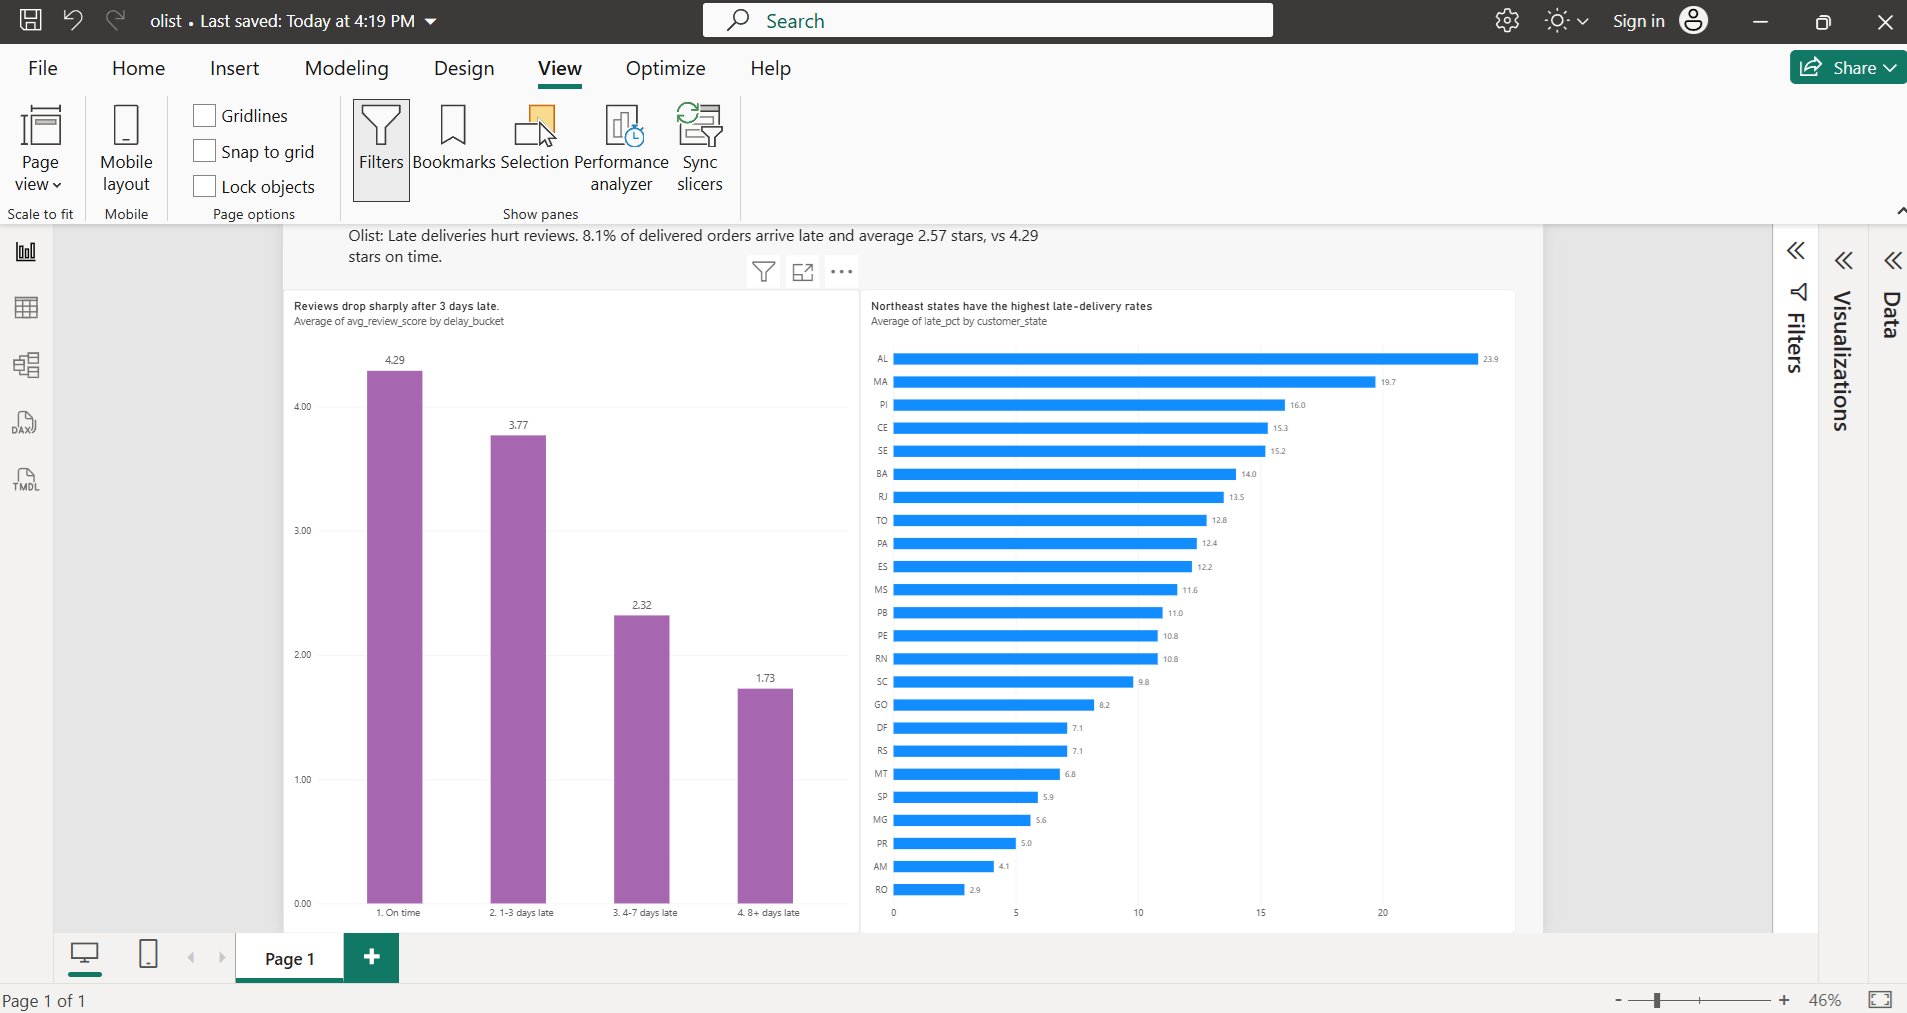

Layout of this report page (visuals, bound fields, positions):
{"tool":"powerbi","page":{"name":"Page 1","canvas":[1920,1080],"ordinal":0},"visuals":[{"type":"clusteredColumnChart","title":"Reviews drop sharply after 3 days late.","fields":{"Category":["05_reviews_by_days_late.delay_bucket"],"Y":["Avg(05_reviews_by_days_late.avg_review_score)"]},"box":[0,99.9,879.2,981.2],"z":0},{"type":"clusteredBarChart","title":"Northeast states have the highest late-delivery rates","fields":{"Category":["04_late_by_state.customer_state"],"Y":["Avg(04_late_by_state.late_pct)"]},"box":[879.2,99.9,998.6,981.2],"z":1000},{"type":"textbox","box":[100,100,300,300],"z":2000},{"type":"textbox","box":[100,100,300,300],"z":3000},{"type":"textbox","box":[100,100,300,300],"z":4000},{"type":"textbox","box":[99.9,0,1091.9,99.9],"z":4001},{"type":"textbox","box":[100,100,300,300],"z":4002}]}

Visuals, with their boxes on the page's 1920x1080 design canvas (x1, y1, x2, y2). These are canvas units, not pixel positions in the 1907x1013 screenshot, which may show the page scaled, cropped or inside an application window:
"Reviews drop sharply after 3 days late." clusteredColumnChart: x1=0, y1=100, x2=879, y2=1081
"Northeast states have the highest late-delivery rates" clusteredBarChart: x1=879, y1=100, x2=1878, y2=1081
textbox: x1=100, y1=100, x2=400, y2=400
textbox: x1=100, y1=100, x2=400, y2=400
textbox: x1=100, y1=100, x2=400, y2=400
textbox: x1=100, y1=0, x2=1192, y2=100
textbox: x1=100, y1=100, x2=400, y2=400
